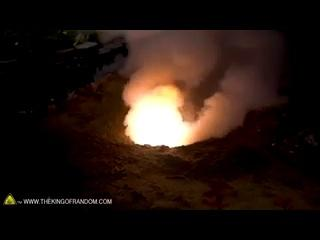Fire: (127, 82, 200, 146)
